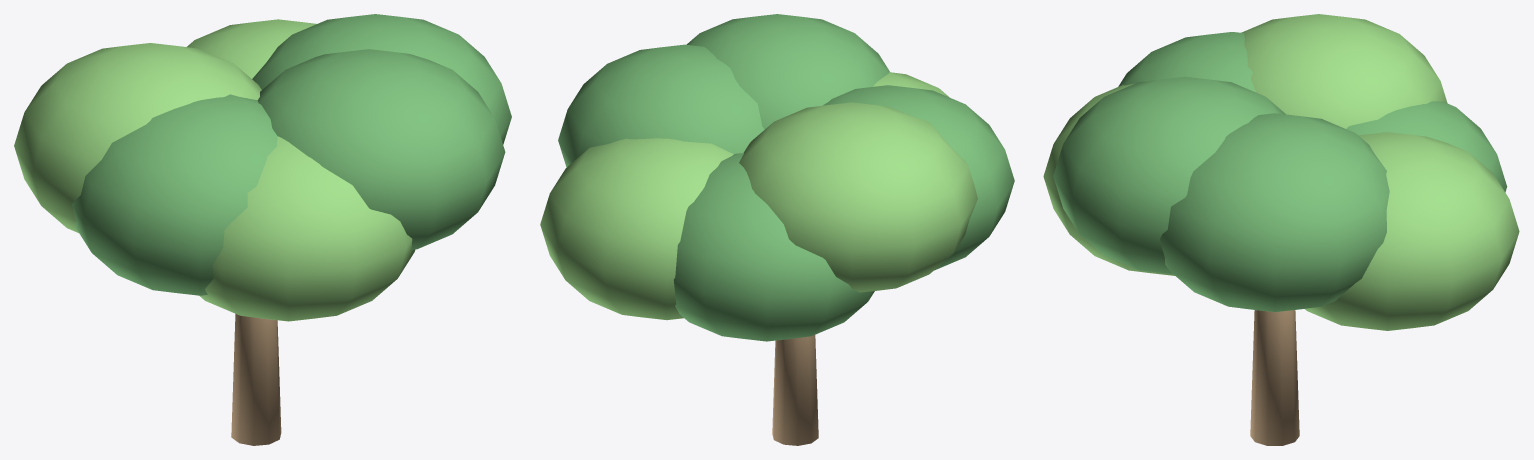
The model's file is Prop_RainTree.fbx.
3 renders of one model, left to right at view 1: azimuth 30°, elevation 25°; view 2: azimuth 150°, elevation 25°; view 3: azimuth 270°, elevation 25°, orthographic. The views are drawn at different scales.
Parts seen in each view (by area): view 1: Prop_RainTree; view 2: Prop_RainTree; view 3: Prop_RainTree.
Boxes of the visible parts, bbox=[...] form: Prop_RainTree: bbox=[14, 14, 511, 445]; Prop_RainTree: bbox=[540, 14, 1014, 445]; Prop_RainTree: bbox=[1043, 14, 1519, 445].
Size of the model in its own units: 8.91 by 7.54 by 8.67.
